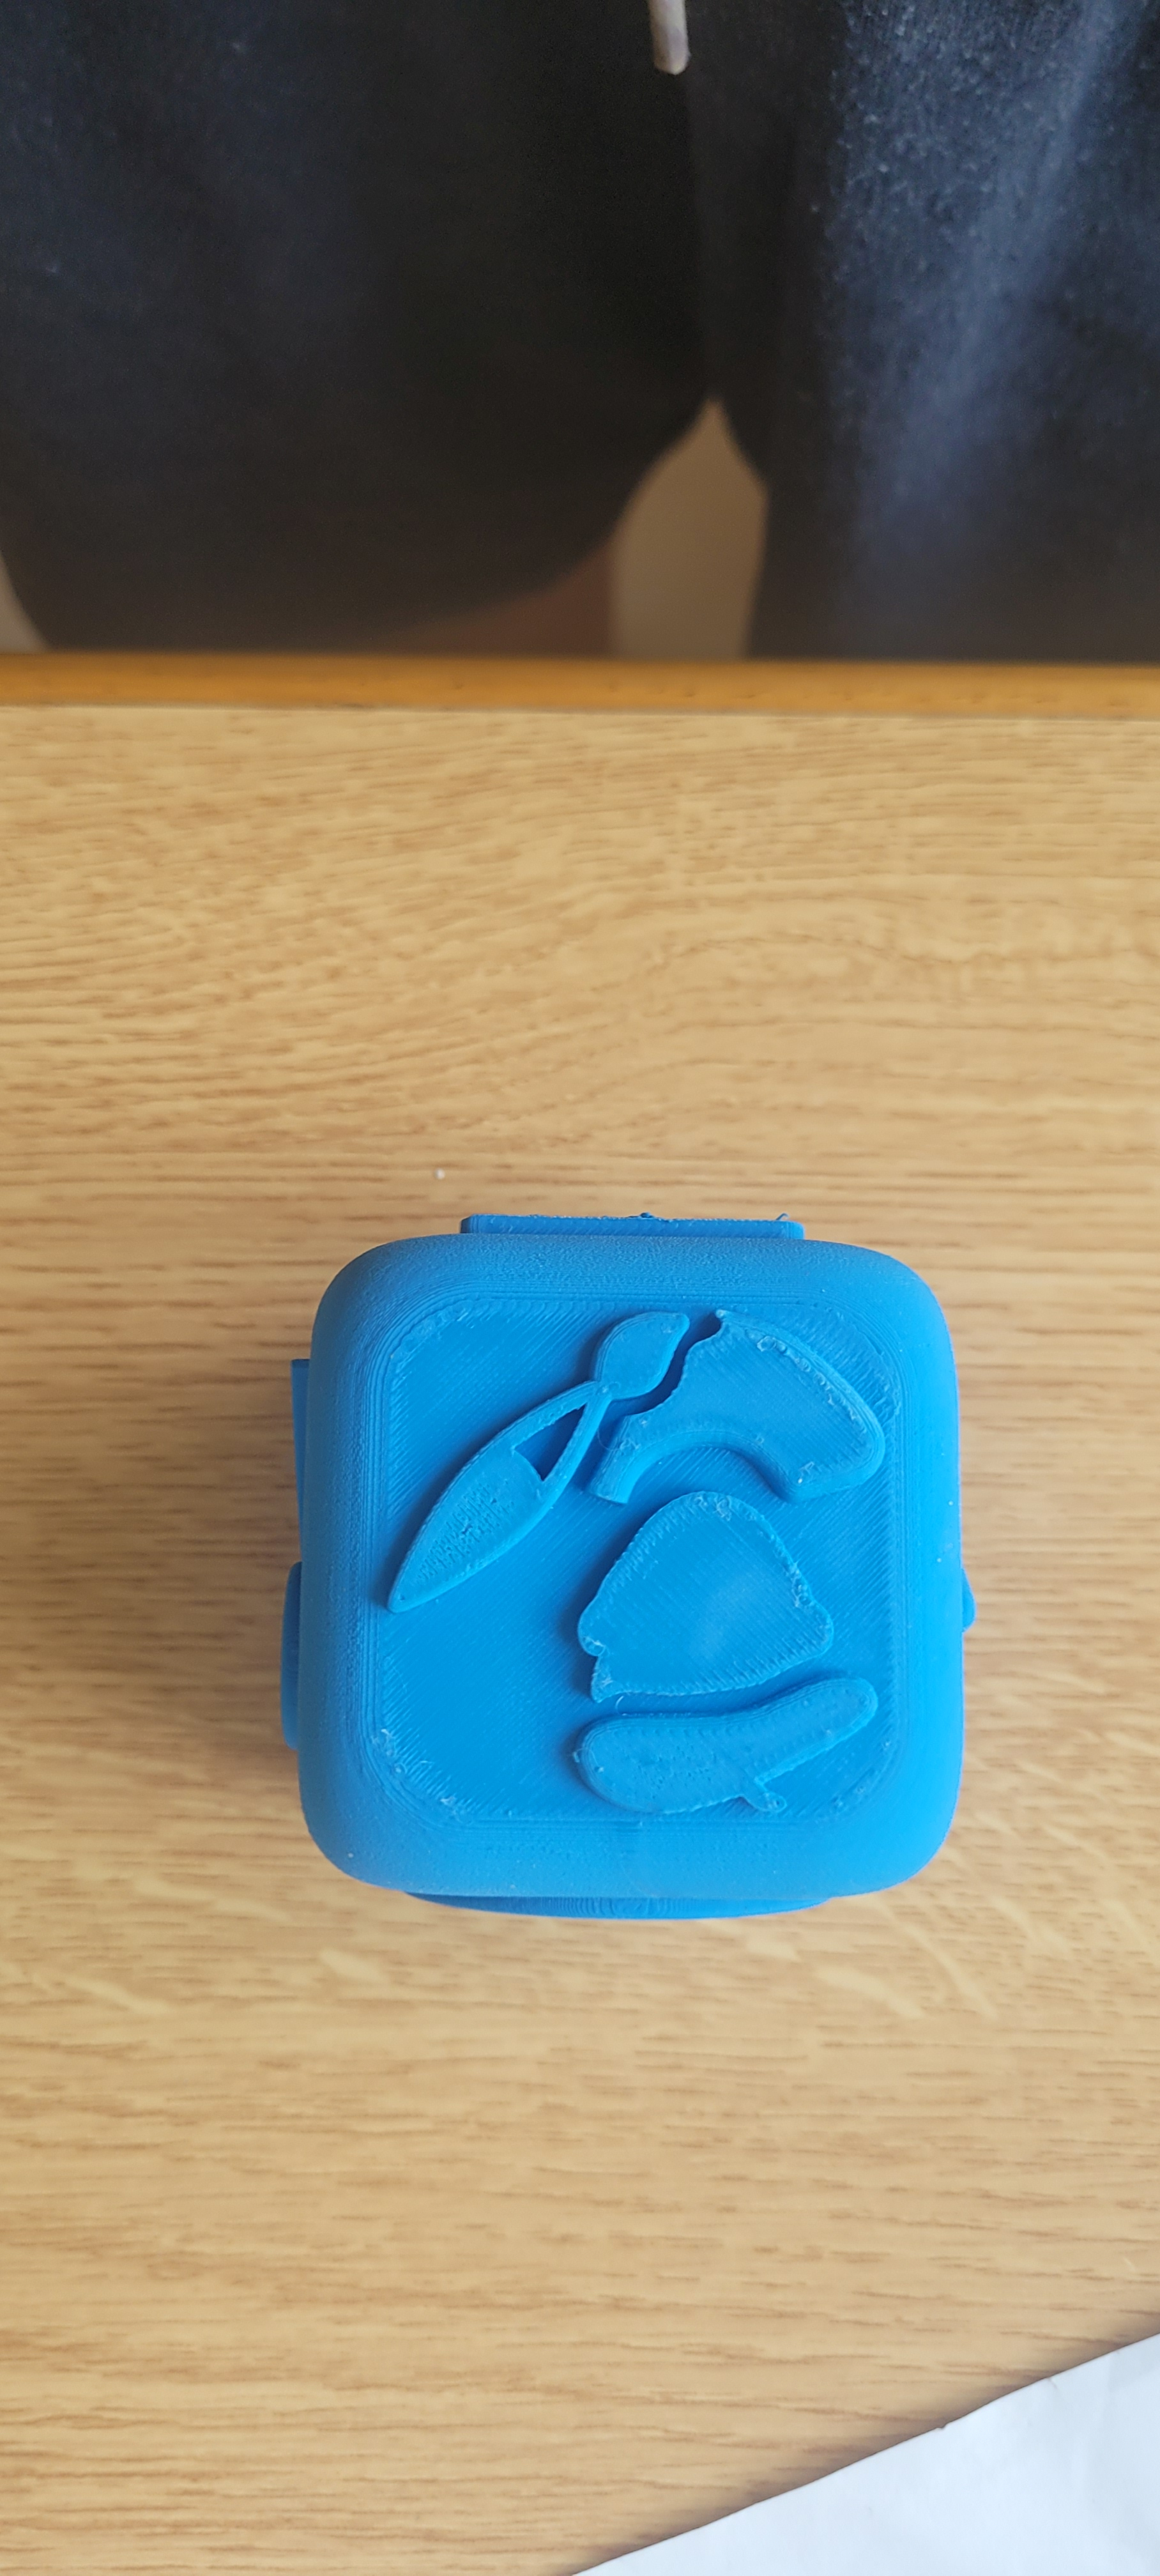Artist_Info: (314, 1197, 975, 1917)
